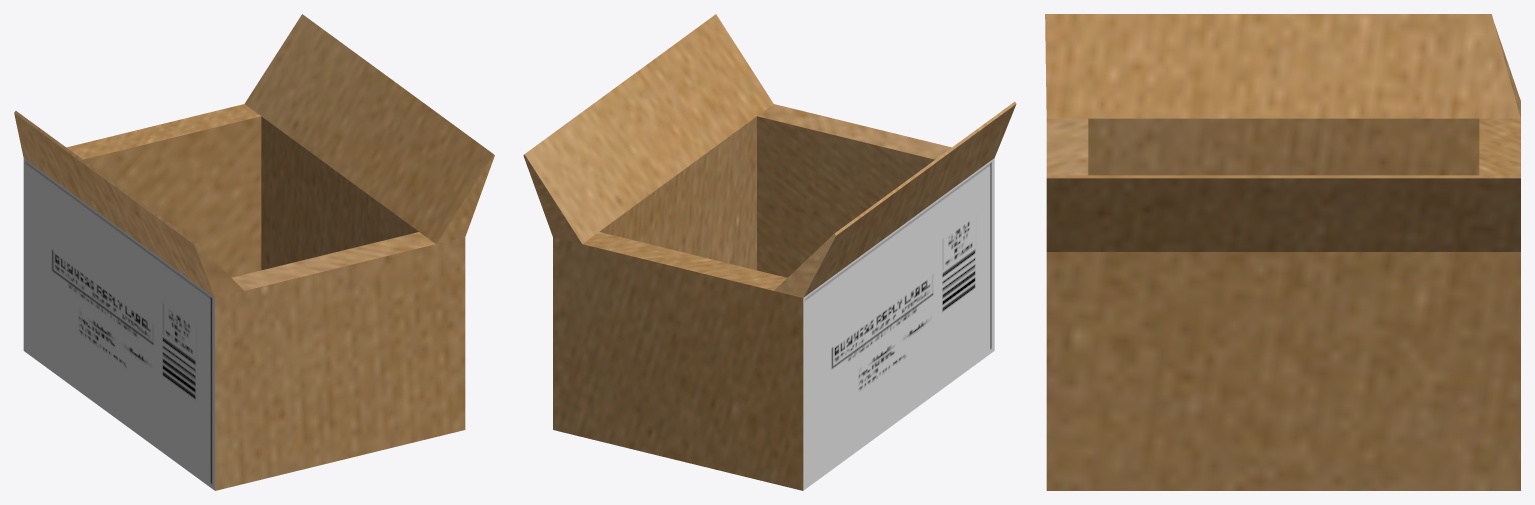
The model's file is boxpack.FBX.
3 views of the same model, side by side, from view 1: azimuth 30°, elevation 25°; view 2: azimuth 150°, elevation 25°; view 3: azimuth 270°, elevation 25° (orthographic). The views are drawn at different scales.
Visible parts, largest first — view 1: Box001, Object001; view 2: Box001, Object001; view 3: Box001.
Part boxes in pixels (x1,y1,x2,y2): Box001: (14, 14, 494, 490); Object001: (23, 158, 214, 490); Box001: (523, 14, 1016, 490); Object001: (803, 158, 994, 490); Box001: (1045, 14, 1520, 490).
Size of the model in its own units: 106 by 90.77 by 118.
Materials: 2 (2 with a texture image).
